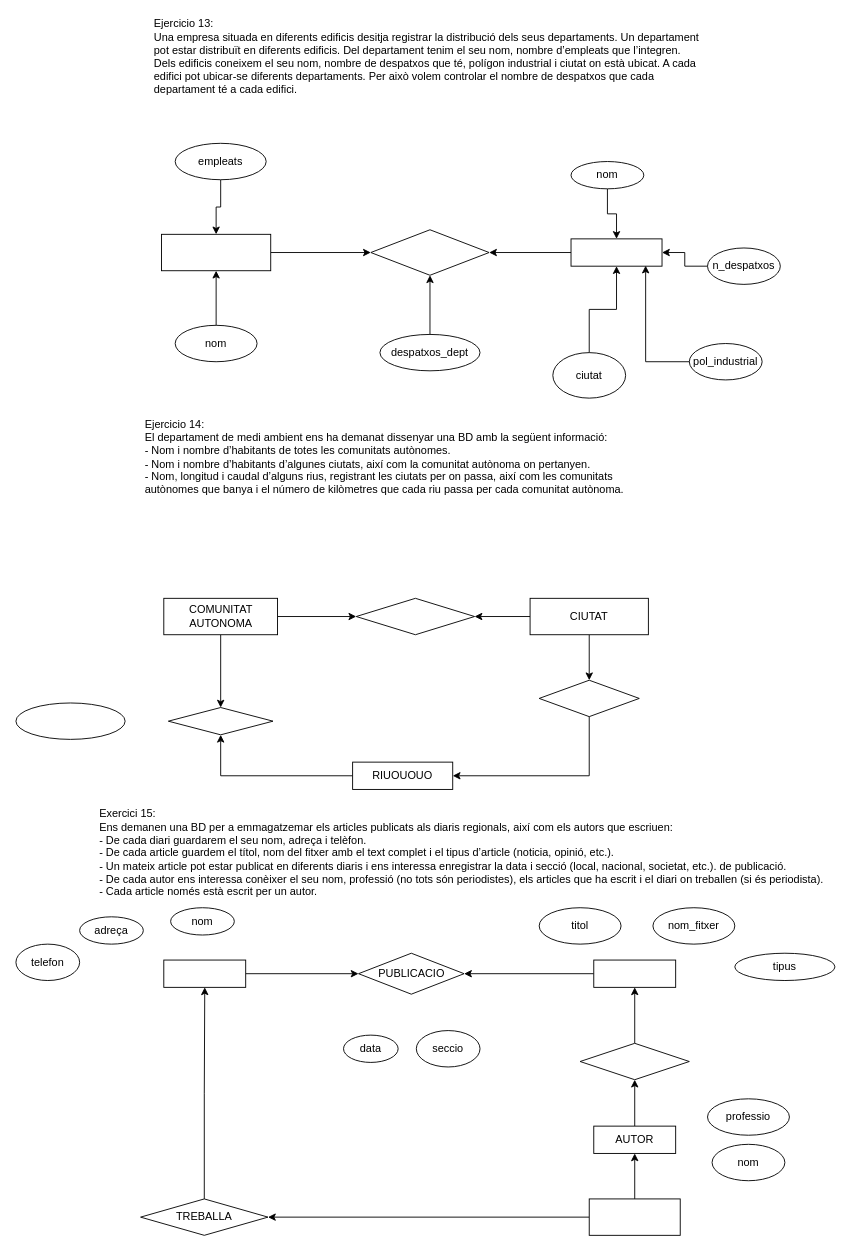
Some shapes in this 851 by 1251 pixel diagram are drawn without their labels. The shapes that lost their labels are listed below. From the top down, each one's box as (x1, y1, x2, y2) in pixels, then its label:
(161, 233, 271, 271): DEPARTAMENT
(370, 229, 489, 275): distribució
(570, 238, 662, 266): EDIFICI
(355, 597, 475, 635): PERTANY
(538, 679, 639, 717): passa
(15, 702, 125, 739): km_riu_ca
(167, 707, 273, 735): banya
(163, 959, 246, 987): DIARI
(593, 959, 676, 987): ARTICLE
(579, 1042, 689, 1080): PUBLICA
(588, 1198, 680, 1235): PERIODISTA
